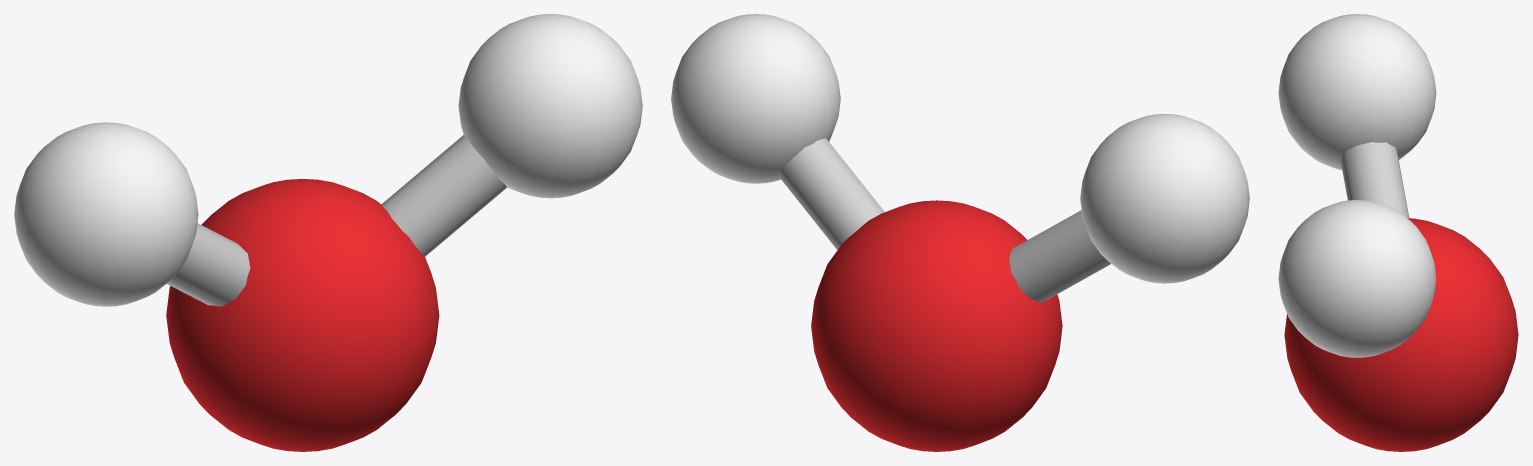
3 renders of one model, left to right at view 1: azimuth 30°, elevation 25°; view 2: azimuth 150°, elevation 25°; view 3: azimuth 270°, elevation 25°, orthographic. The views are drawn at different scales.
Parts seen in each view (by area): view 1: H2O; view 2: H2O; view 3: H2O.
Part boxes in pixels (x1=…): H2O: x1=14, y1=14, x2=642, y2=451; H2O: x1=671, y1=14, x2=1249, y2=451; H2O: x1=1278, y1=14, x2=1518, y2=451.
Size of the model in its own units: 0.1123 by 0.0677 by 0.0451.
